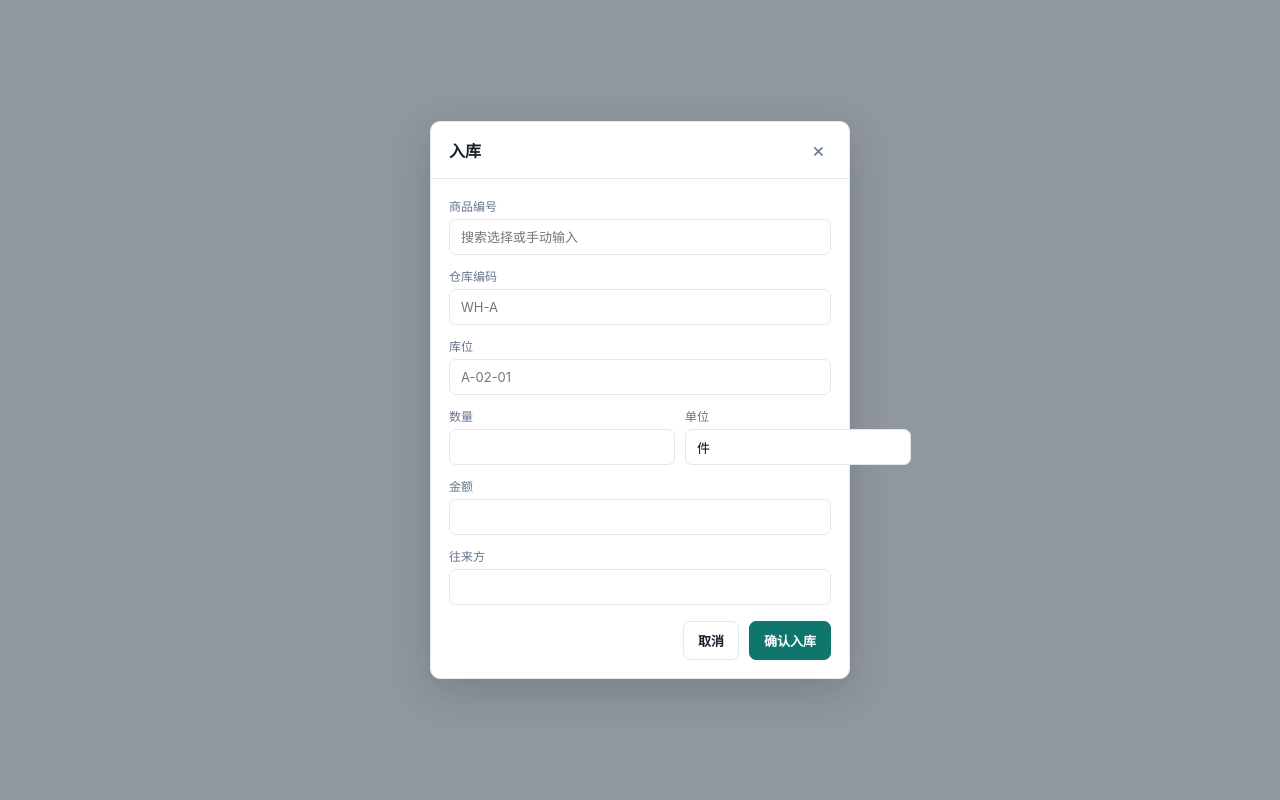
Test case: EntryFormModal › rejects quantity <= 0 and total_amount < 0 before submitting
Type "0" into the number field with test id "quantity".
click(562, 447); type("0")  # box [449,429,675,465]
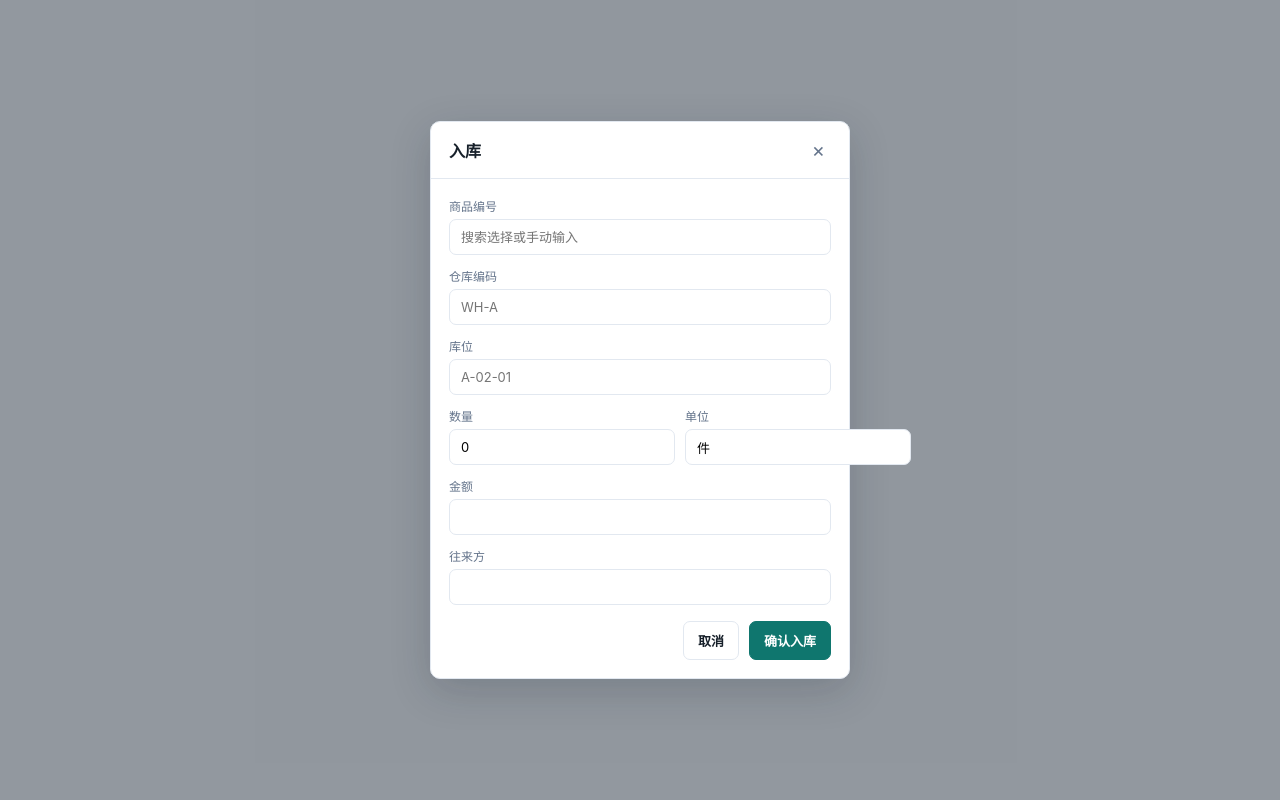
Type "-5" into the number field with test id "total_amount".
click(640, 517); type("-5")  # box [449,499,831,535]
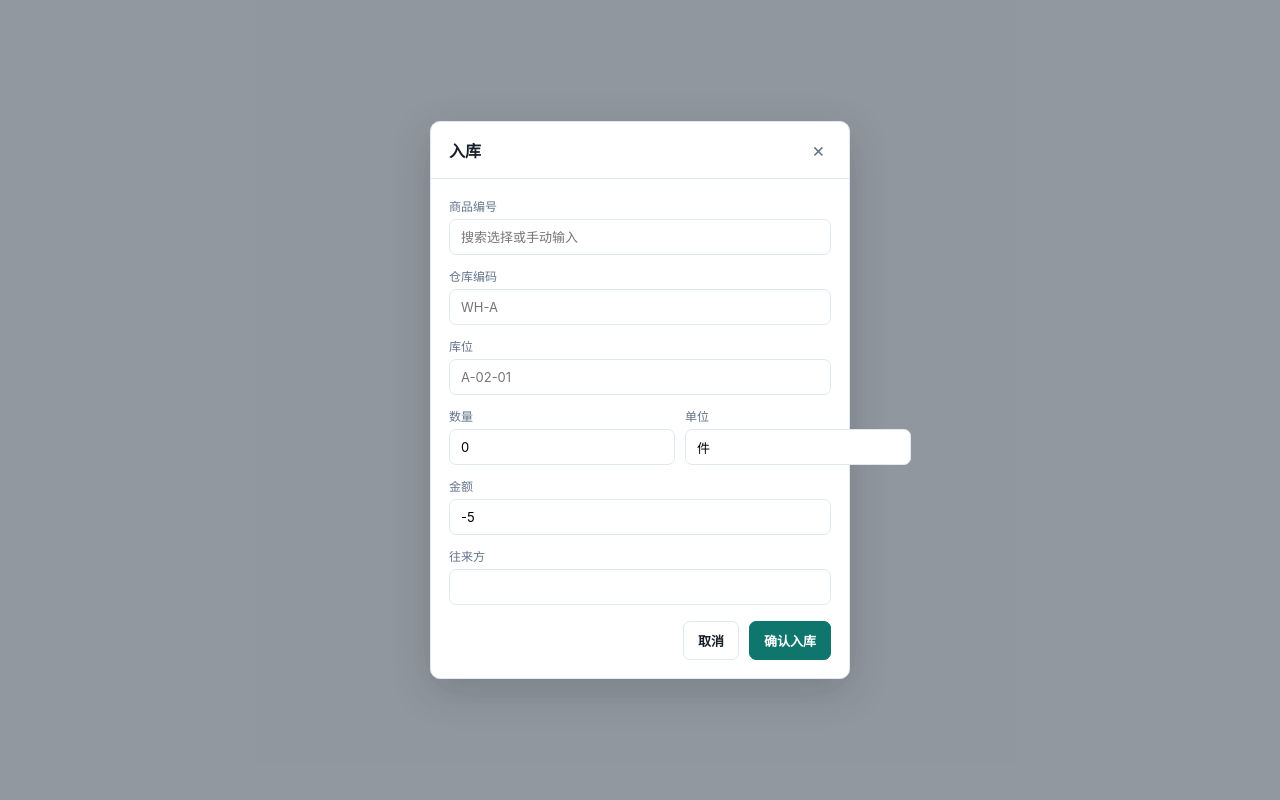
Submit the form, box [431,179,849,678]
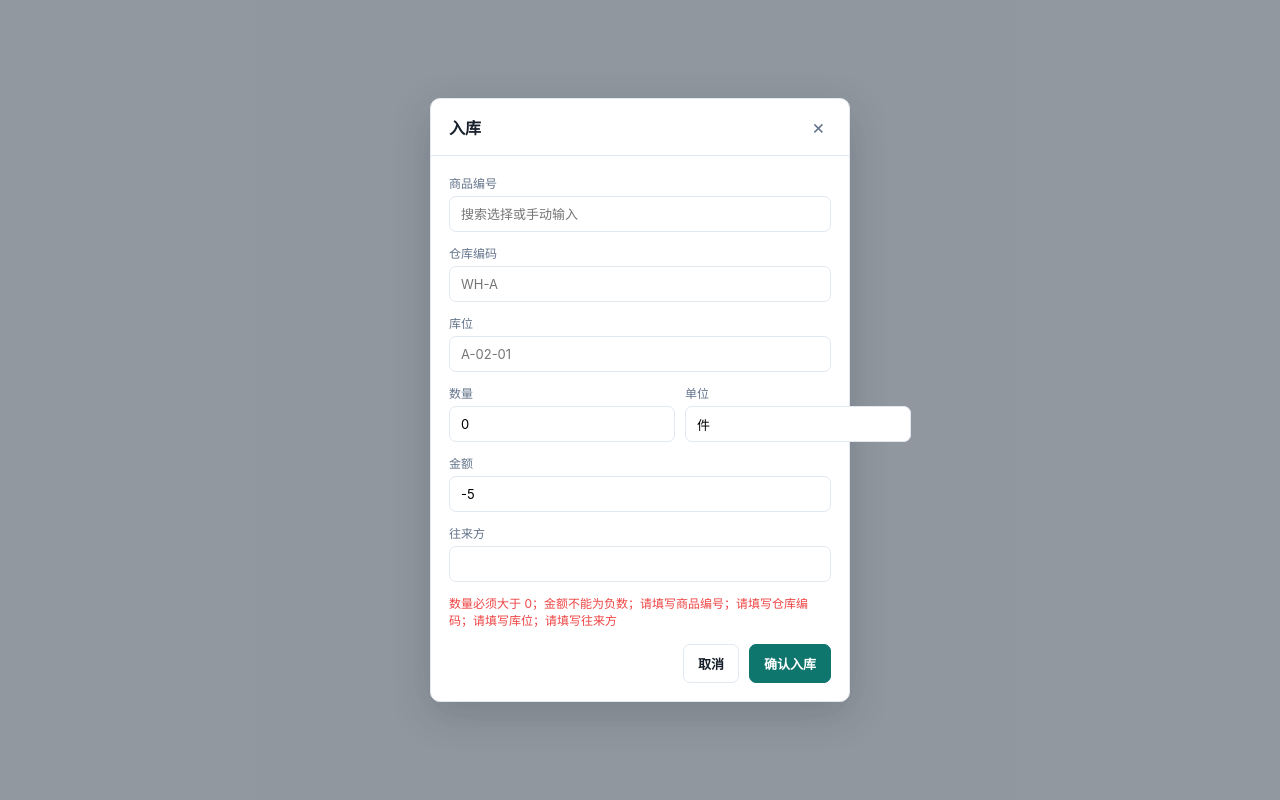
Result: the text "数量必须大于 0" is shown at [449,596,808,628]
Result: the text "金额不能为负数" is shown at [449,596,808,628]
